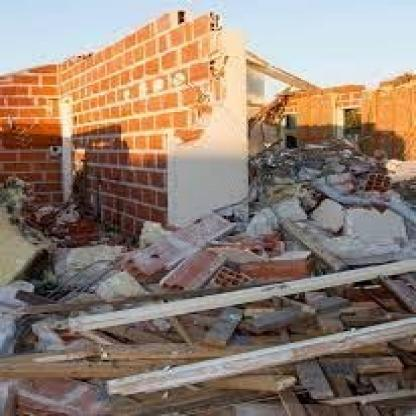brick: (2, 10, 412, 414)
